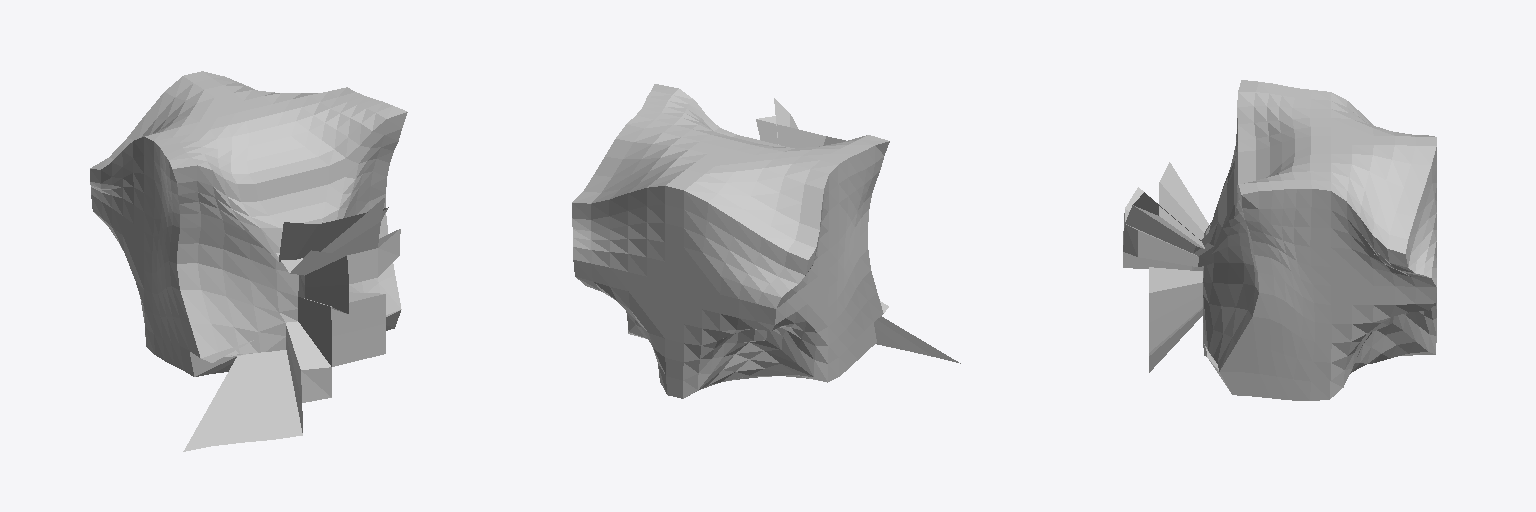
Rendered from demo.obj.
The picture shows the model from 3 angles: view 1: azimuth 30°, elevation 25°; view 2: azimuth 150°, elevation 25°; view 3: azimuth 270°, elevation 25°; orthographic projection.
Parts seen in each view (by area): view 1: Cube; view 2: Cube; view 3: Cube.
Part boxes in pixels (x1,y1,x2,y2): Cube: (90, 71, 407, 451); Cube: (572, 84, 960, 398); Cube: (1123, 80, 1436, 400).
Bounding box in the file's own units: 2.63 × 2.4 × 2.7.